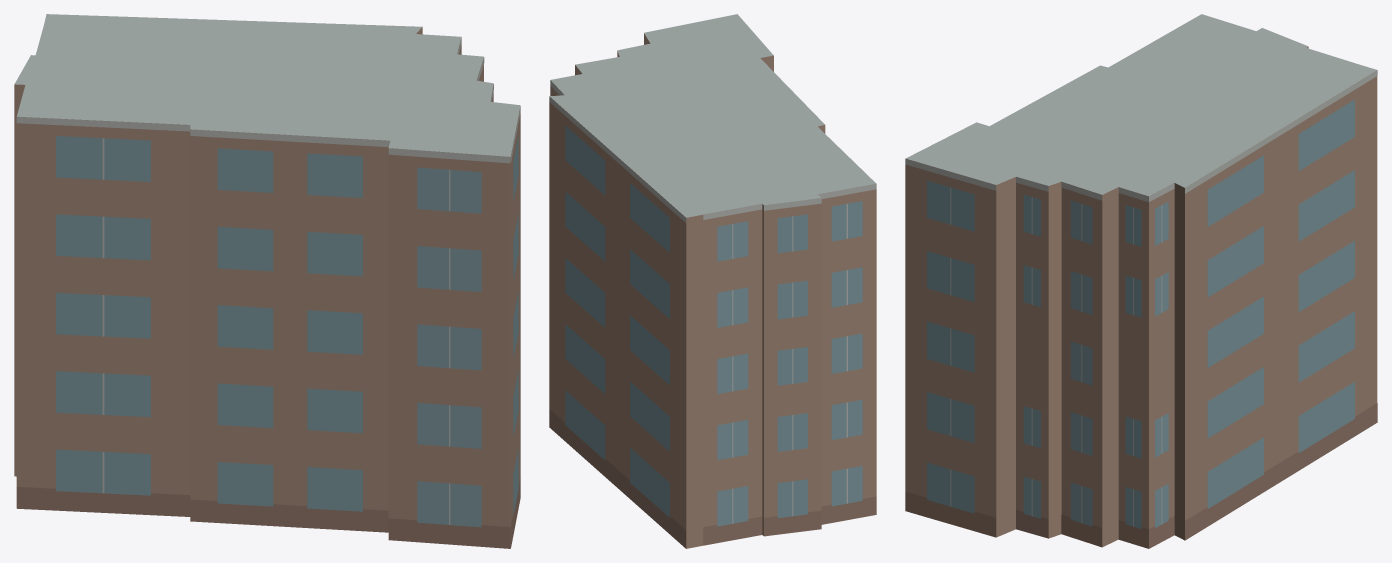
The model's file is survey-upis-32903818.glb.
The picture shows the model from 3 angles, left to right: view 1: azimuth 30°, elevation 25°; view 2: azimuth 150°, elevation 25°; view 3: azimuth 270°, elevation 25°; orthographic projection. The views are drawn at different scales.
Visible parts, largest first — view 1: survey-upis-32903818.tmp; view 2: survey-upis-32903818.tmp; view 3: survey-upis-32903818.tmp.
Boxes of the visible parts, x1,y1,x2,y2 form: survey-upis-32903818.tmp: (14,14,520,548); survey-upis-32903818.tmp: (549,14,876,548); survey-upis-32903818.tmp: (905,14,1377,548).
Size of the model in its own units: 16.21 by 14.6 by 17.73.
